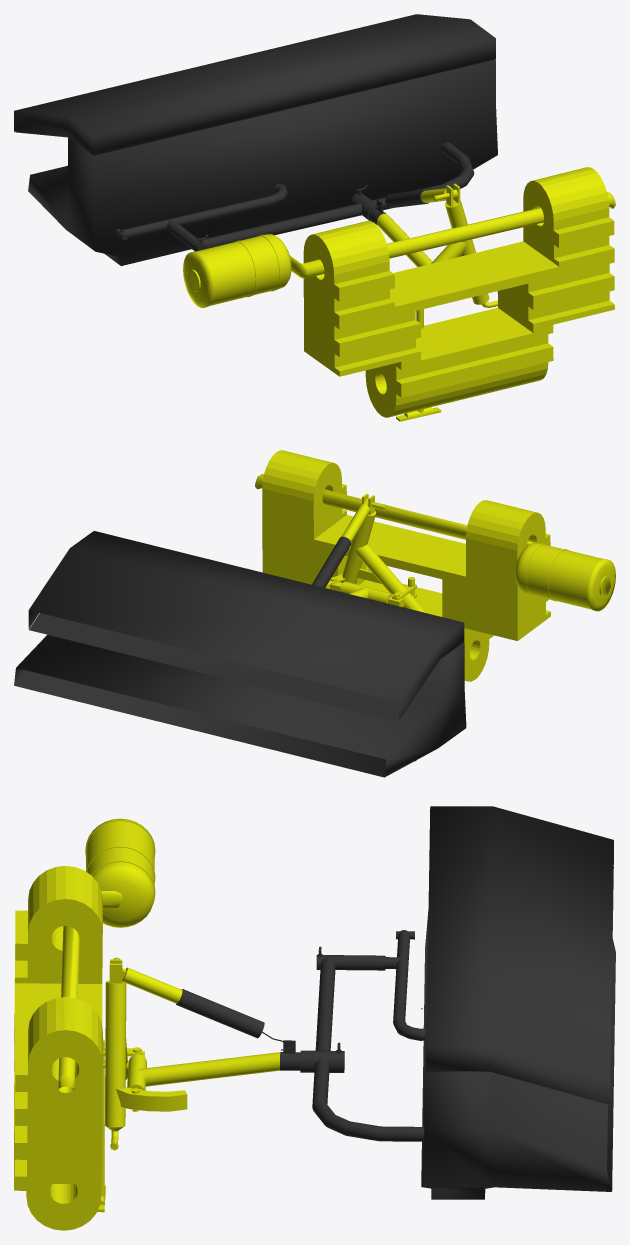
The model's file is Baslk_makina.fbx.
3 renders of one model, top to bottom at view 1: azimuth 30°, elevation 25°; view 2: azimuth 150°, elevation 25°; view 3: azimuth 270°, elevation 25°, orthographic. The views are drawn at different scales.
Parts seen in each view (by area): view 1: başlık_2, Başlık; view 2: başlık_2, Başlık; view 3: başlık_2, Başlık.
Part boxes in pixels (<box>): başlık_2: <box>14,14,497,265</box>; Başlık: <box>183,167,615,421</box>; başlık_2: <box>14,531,466,777</box>; Başlık: <box>255,450,615,681</box>; başlık_2: <box>176,806,615,1199</box>; Başlık: <box>14,818,280,1230</box>.
Bounding box in the file's own units: 170 × 84.62 × 165.
